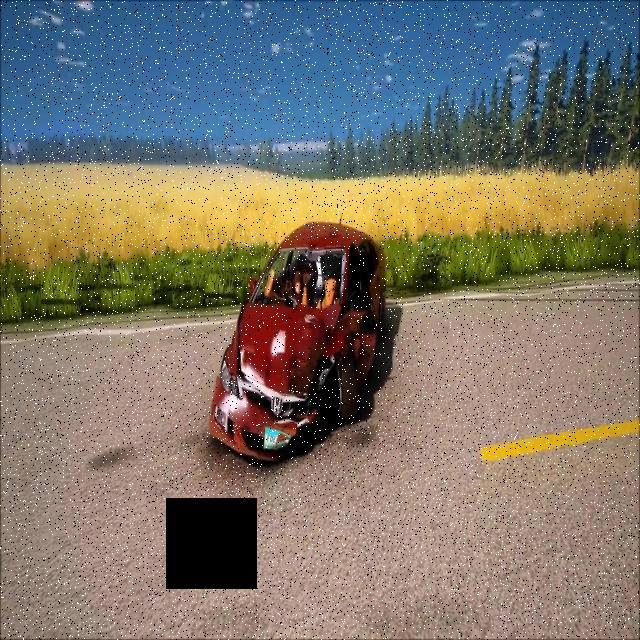severe: (202, 213, 390, 462)
